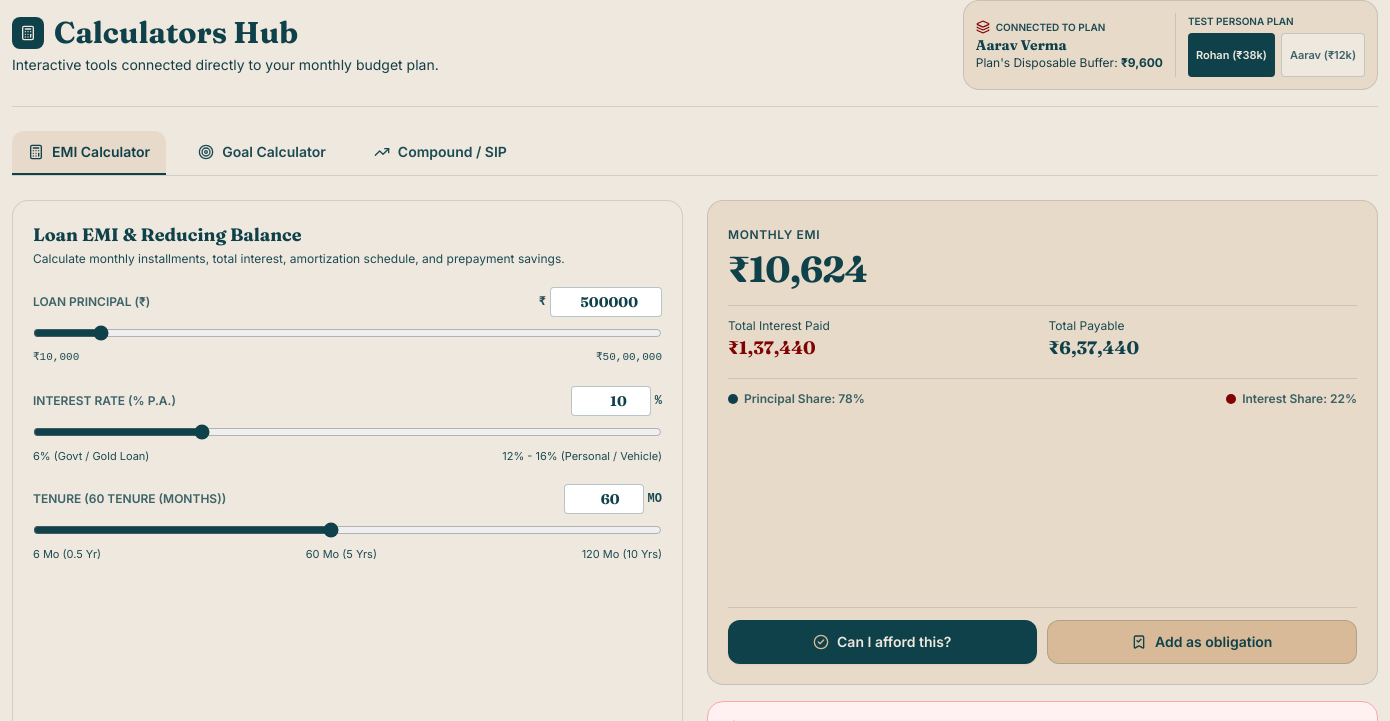
CalculatorsScreen Component Suite › switches to Goal Calculator and outputs P3 test vector (~12,12x) and plan fit
Click the tab "Goal Calculator". click: (262, 153)
box: [182,131,342,175]
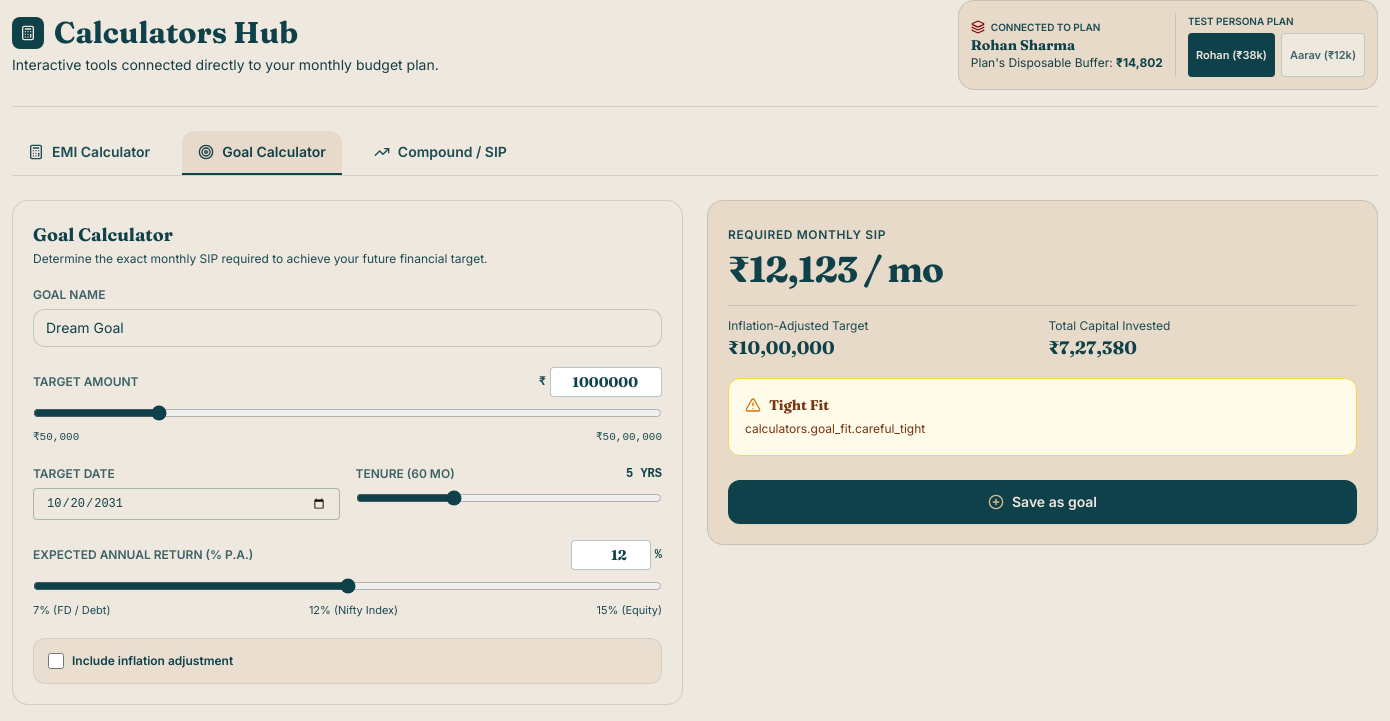
expect the text "₹12,123 / mo" is shown: met, box [728,247,943,291]
expect the text with test id "goal-sip-output" shows "12,123": met, box [728,247,857,291]
expect the button with test id "goal-fit-panel" is shown: met, box [728,378,1357,456]
